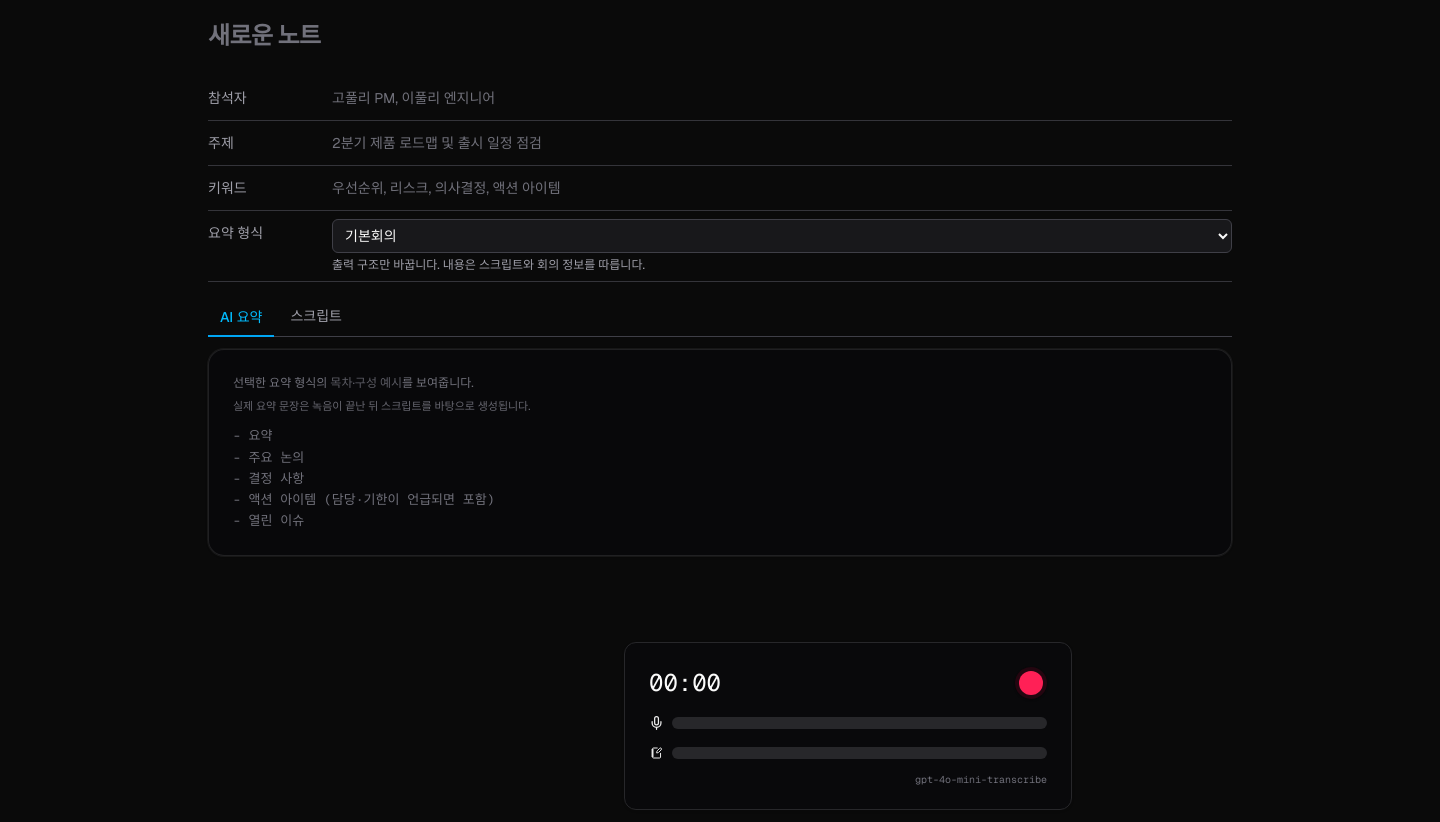
Recorder 홈 레이아웃 (노트 작업면 + RecordingCard) › 요약 형식을 비즈니스 미팅으로 바꾸면 AI 요약 미리보기에 해당 구조가 보인다
The width and height of the screenshot is (1440, 822).
Select "비즈니스 미팅" in the dropdown with test id "meeting-template-selector": point(782, 236) [332, 219, 1232, 253]
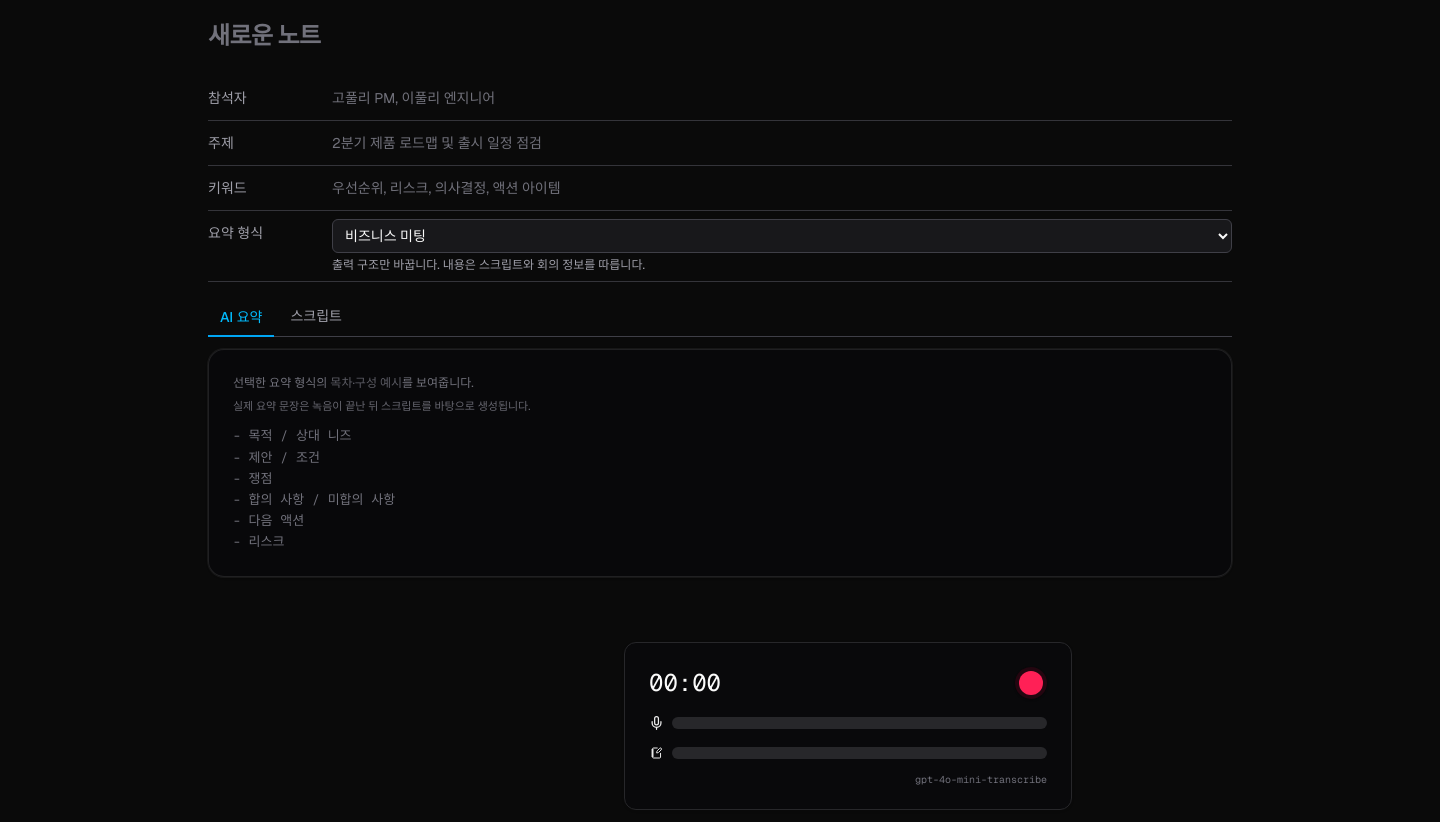
Now the text with test id "meeting-minutes-template-preview" shows "목적 / 상대 니즈", box [233, 427, 395, 550]
